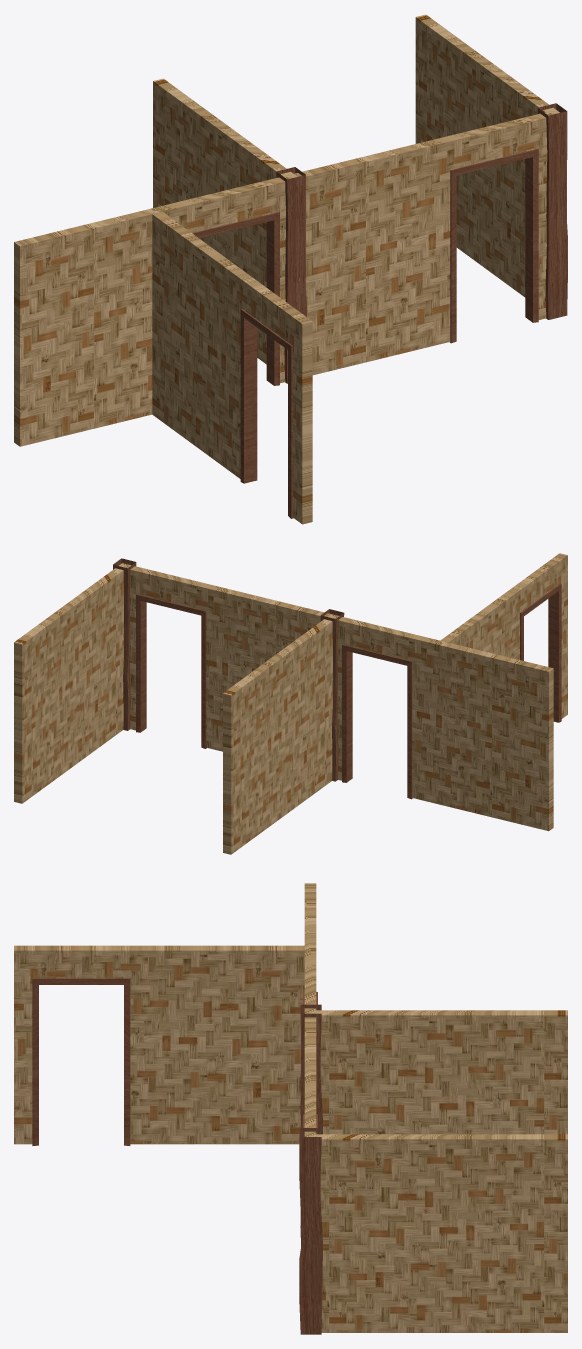
Rendered from TengahR1.fbx.
The picture shows the model from 3 angles, top to bottom: view 1: azimuth 30°, elevation 25°; view 2: azimuth 150°, elevation 25°; view 3: azimuth 270°, elevation 25°; orthographic projection. The views are drawn at different scales.
Parts seen in each view (by area): view 1: Cube.164; view 2: Cube.164; view 3: Cube.164.
Part boxes in pixels (left/top/right/bottom): Cube.164: left=14, top=14, right=567, bottom=524; Cube.164: left=14, top=553, right=567, bottom=854; Cube.164: left=14, top=883, right=567, bottom=1334.
Bounding box in the file's own units: 15.71 × 5.65 × 14.28.
2 materials, 2 textured.
